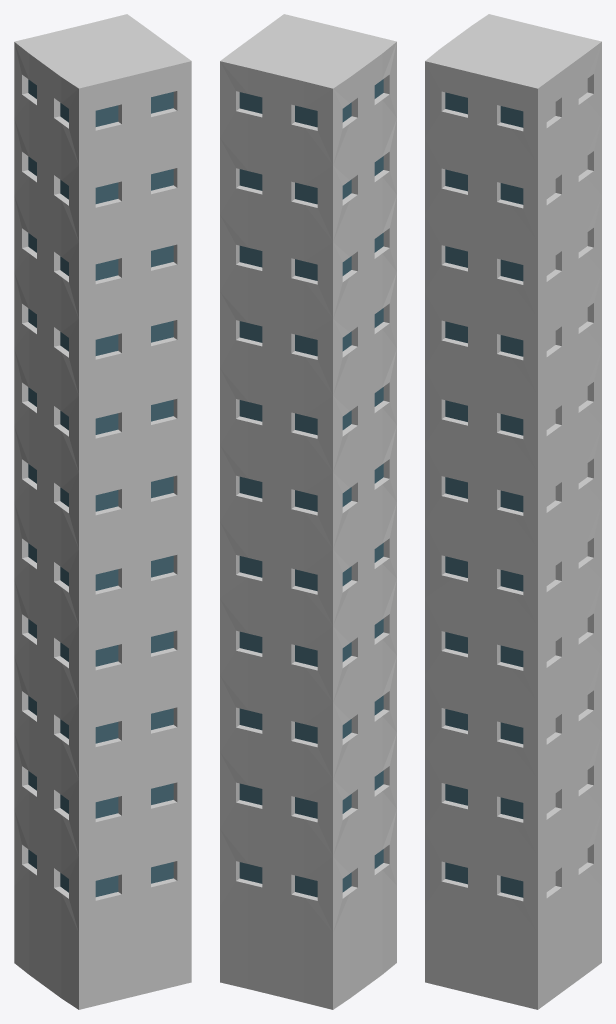
File: Building_abstarct.fbx
3 views of the same model, side by side, from view 1: azimuth 30°, elevation 25°; view 2: azimuth 150°, elevation 25°; view 3: azimuth 330°, elevation 25° (orthographic).
Parts seen in each view (by area): view 1: polySurface4; view 2: polySurface4; view 3: polySurface4.
Boxes of the visible parts, box(x1,y1,x2,y2) form: polySurface4: box(14, 14, 191, 1009); polySurface4: box(220, 14, 396, 1009); polySurface4: box(425, 14, 601, 1009).
Bounding box in the file's own units: 12.21 × 94.11 × 11.92.
